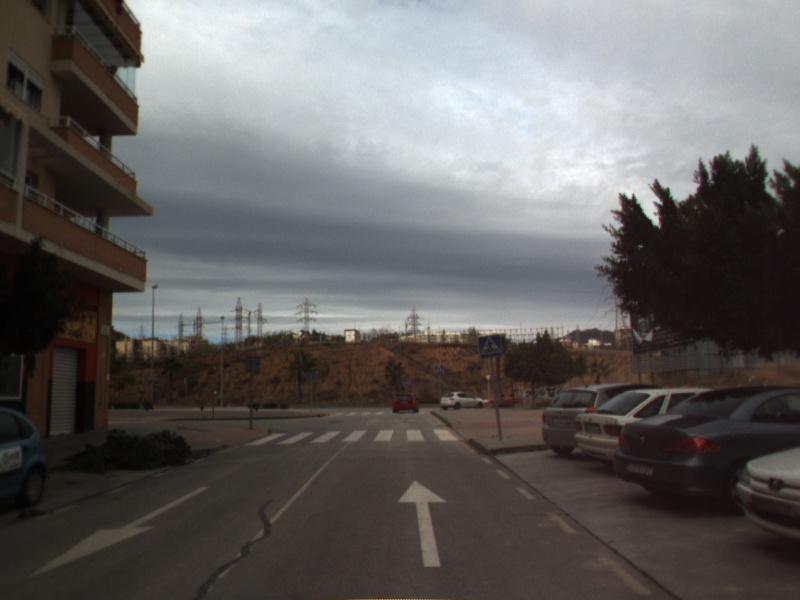STRAIGHT: (395, 478, 450, 569)
